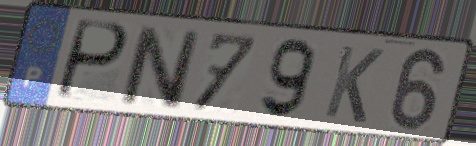6: (388, 46, 447, 133)
7: (190, 30, 260, 114)
9: (257, 38, 319, 121)
K: (320, 42, 387, 126)
N: (117, 23, 202, 112)
P: (51, 17, 132, 104)
